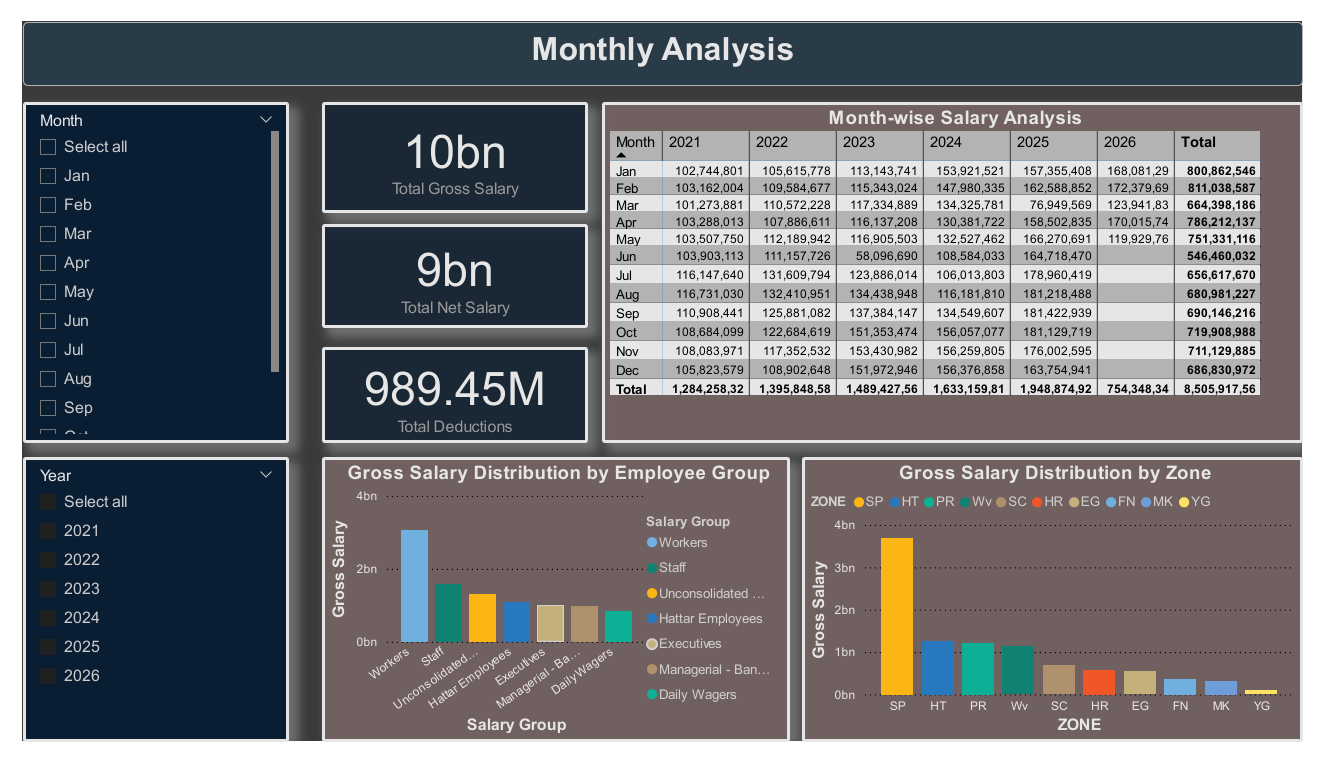

This screenshot's page, from the dashboard's own definition file:
{"tool":"powerbi","page":{"name":"Monthly Analysis","canvas":[1280,720],"ordinal":3},"visuals":[{"type":"pivotTable","title":"Month-wise Salary Analysis","fields":{"Rows":["DateTable.Month"],"Columns":["DateTable.Year"],"Values":["AI_PAYROLL_DATA.Total Net Salary"]},"box":[579.1,79.6,700.9,341.4],"z":0},{"type":"slicer","fields":{"Values":["DateTable.Year"]},"box":[0,435,266.2,285.4],"z":1000},{"type":"slicer","fields":{"Values":["DateTable.Month"]},"box":[0,79.6,266.2,341.7],"z":2000},{"type":"columnChart","title":"Gross Salary Distribution by Employee Group","fields":{"Category":["AI_PAYROLL_DATA.SALARY_GROUP"],"Y":["Sum(AI_PAYROLL_DATA.GROSS_SALARY)"],"Series":["AI_PAYROLL_DATA.SALARY_GROUP"]},"box":[299.1,435,467.9,285.4],"z":3000},{"type":"columnChart","title":"Gross Salary Distribution by Zone","fields":{"Category":["AI_PAYROLL_DATA.ZONE"],"Y":["Sum(AI_PAYROLL_DATA.GROSS_SALARY)"],"Series":["AI_PAYROLL_DATA.ZONE"]},"box":[779.4,435,500.9,285.4],"z":4000},{"type":"card","fields":{"Values":["AI_PAYROLL_DATA.Total Net Salary"]},"box":[299.1,201.7,266.2,104.3],"z":5000},{"type":"card","fields":{"Values":["AI_PAYROLL_DATA.Total Deductions"]},"box":[299.1,325.2,266.2,96.1],"z":6000},{"type":"card","fields":{"Values":["AI_PAYROLL_DATA.Total Gross Salary"]},"box":[299.1,79.6,266.2,111.1],"z":7000},{"type":"textbox","box":[0,0,1280.3,64.5],"z":8000}]}

Visuals, with their boxes in screenshot pixels (x1, y1, x2, y2), scaled from the page's 1280x720 canvas onto the 1322x762 screenshot:
"Month-wise Salary Analysis" pivotTable: bbox(598, 84, 1321, 446)
slicer - DateTable.Year: bbox(0, 460, 275, 761)
slicer - DateTable.Month: bbox(0, 84, 275, 446)
"Gross Salary Distribution by Employee Group" columnChart: bbox(309, 460, 792, 761)
"Gross Salary Distribution by Zone" columnChart: bbox(805, 460, 1321, 761)
card - AI_PAYROLL_DATA.Total Net Salary: bbox(309, 213, 584, 324)
card - AI_PAYROLL_DATA.Total Deductions: bbox(309, 344, 584, 446)
card - AI_PAYROLL_DATA.Total Gross Salary: bbox(309, 84, 584, 202)
textbox: bbox(0, 0, 1321, 68)
